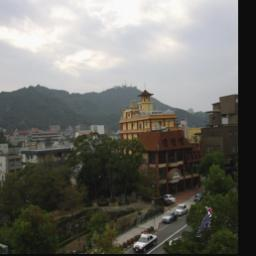Woodpecker: (195, 207, 212, 238)
